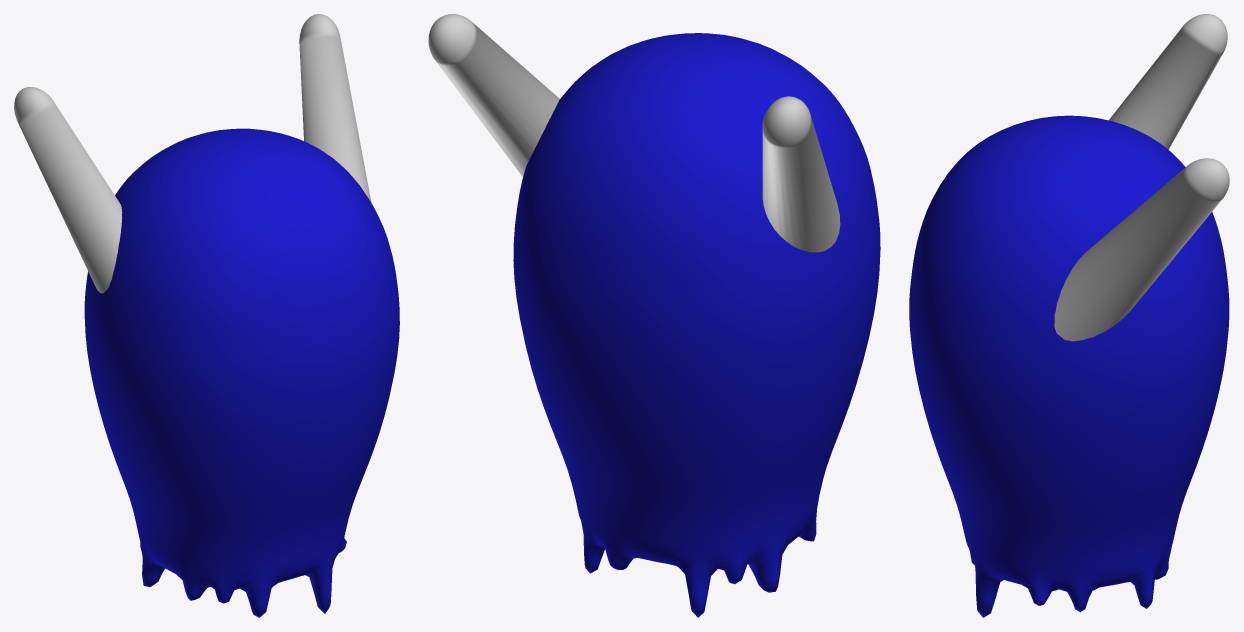
File: beforeThrow_000049.obj
The picture shows the model from 3 angles, left to right: view 1: azimuth 30°, elevation 25°; view 2: azimuth 150°, elevation 25°; view 3: azimuth 270°, elevation 25°; orthographic projection. The views are drawn at different scales.
Parts seen in each view (by area): view 1: Cube, Sphere.001, Sphere; view 2: Cube, Sphere, Sphere.001; view 3: Cube, Sphere, Sphere.001.
Boxes of the visible parts, x1,y1,x2,y2 form: Cube: (84,128,399,617); Sphere.001: (14,87,122,293); Sphere: (299,14,371,201); Cube: (513,33,880,617); Sphere: (428,14,559,176); Sphere.001: (762,96,840,252); Cube: (909,115,1229,617); Sphere: (1054,158,1229,341); Sphere.001: (1109,14,1227,149).
Size of the model in its own units: 0.3414 by 0.5028 by 0.2862.
